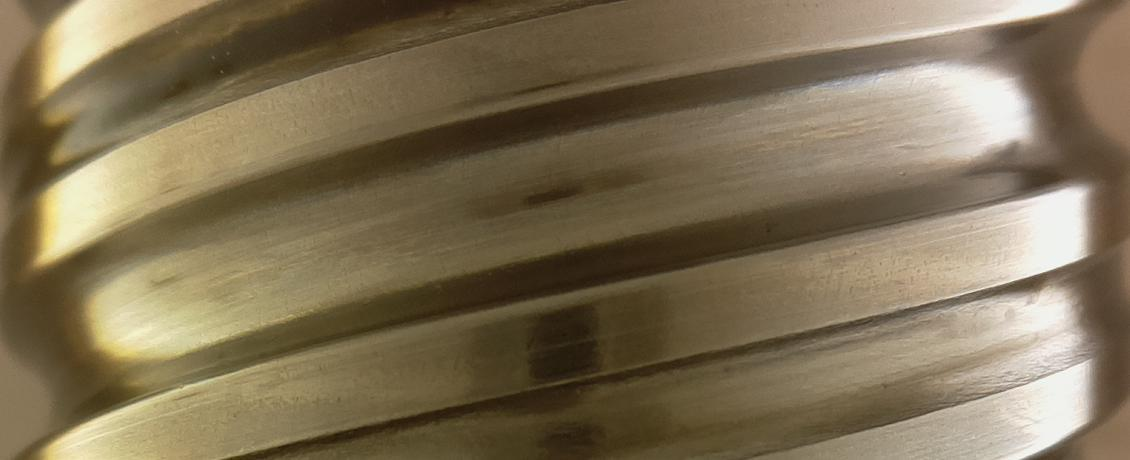pitting: (764, 222, 776, 232)
